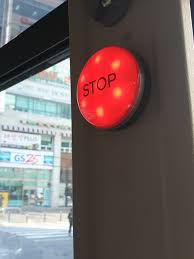bell: (76, 43, 151, 131)
